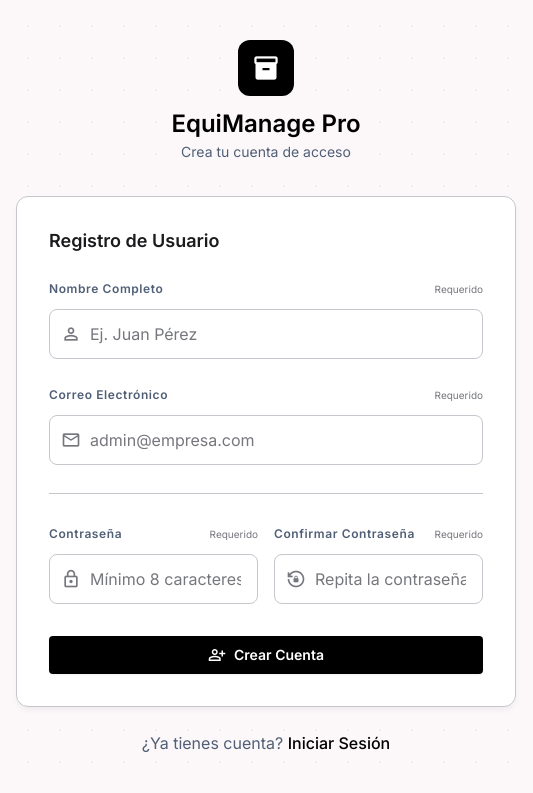
Test case: RegisterPage › muestra error de validación si las contraseñas no coinciden
In the field labelled "Nombre Completo": {"x": 266, "y": 334} left=49, top=308, right=483, bottom=358, type "Nuevo Usuario"
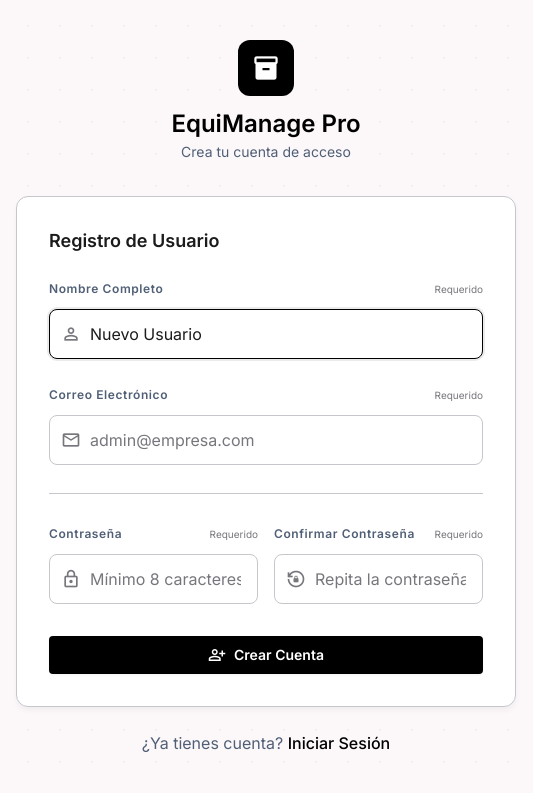
In the field labelled "Correo Electrónico": {"x": 266, "y": 440} left=49, top=414, right=483, bottom=464, type "nuevo@dds.com"
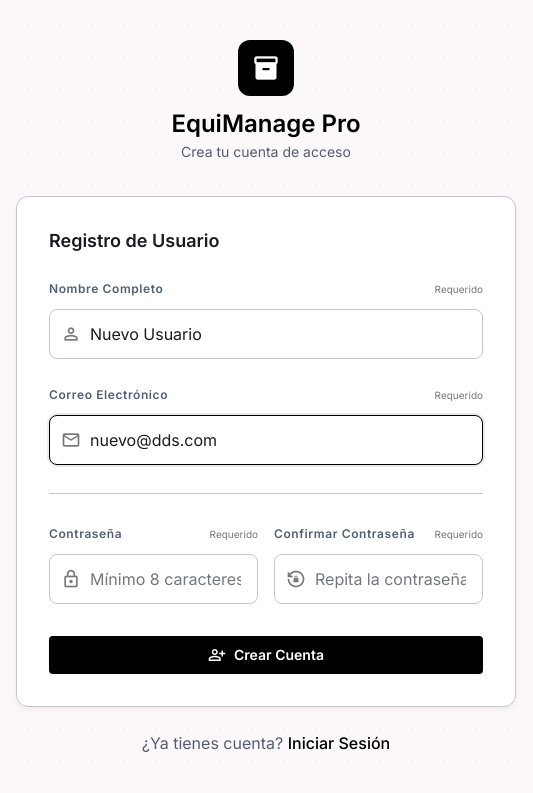
In the password field labelled "Contraseña": {"x": 154, "y": 578} left=49, top=554, right=258, bottom=604, type "abcdef"
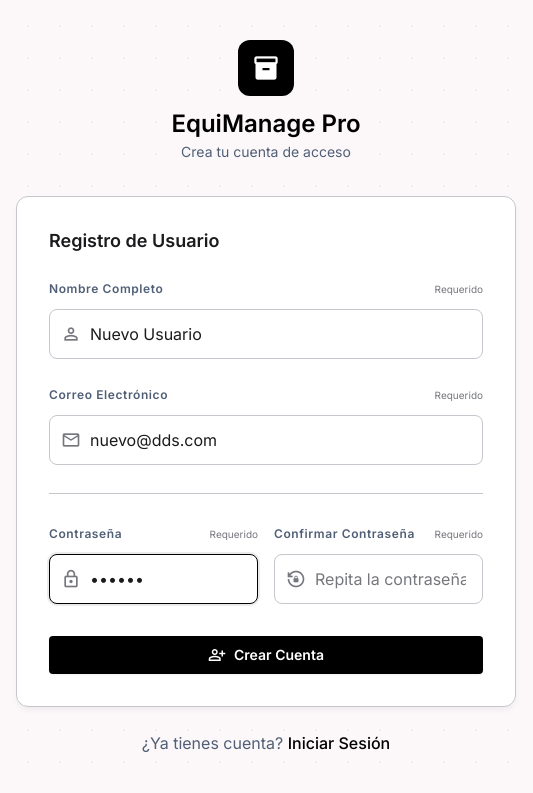
In the password field labelled "Confirmar Contraseña": {"x": 378, "y": 578} left=274, top=554, right=483, bottom=604, type "distinta"
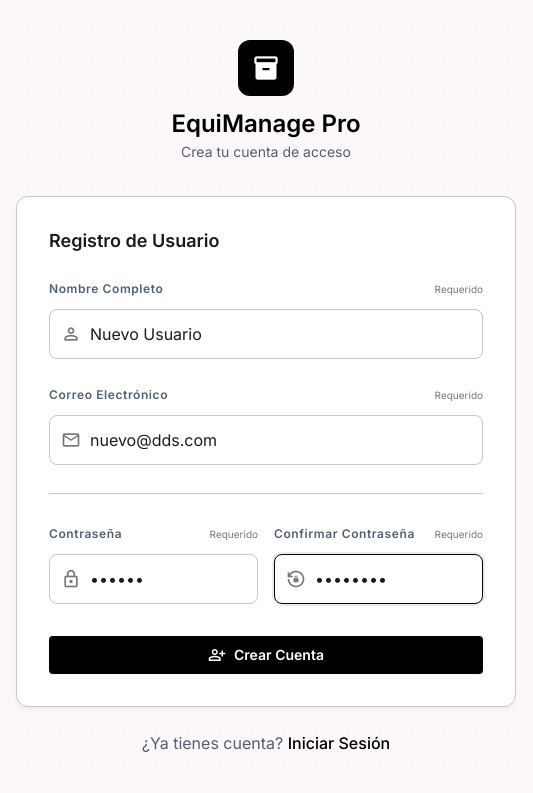
Click the button "Crear Cuenta": {"x": 266, "y": 654} left=49, top=636, right=483, bottom=674
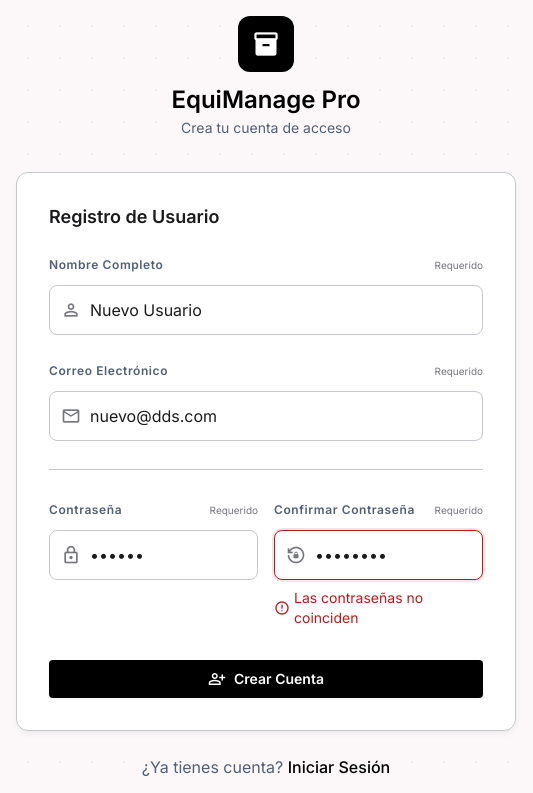
Expected: the text "Las contraseñas no coinciden" is shown, left=274, top=588, right=423, bottom=626
